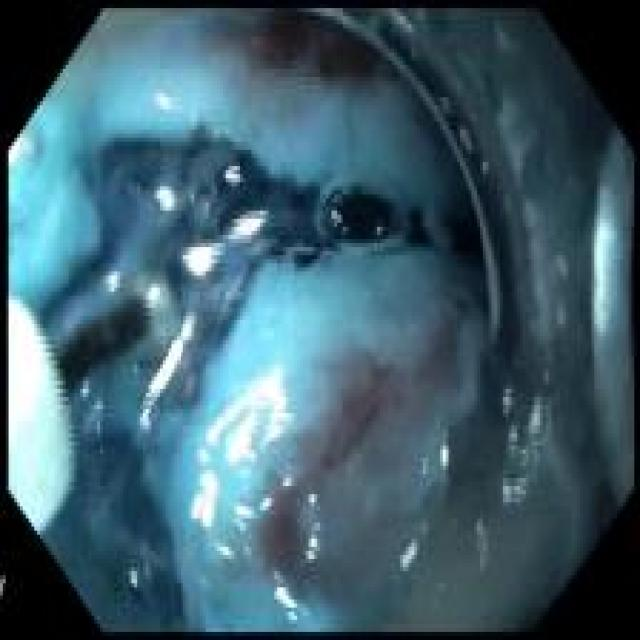instrument: (9, 266, 185, 534)
saturation: (9, 300, 47, 445)
specularity: (139, 314, 195, 432), (207, 371, 293, 447), (226, 414, 258, 463), (191, 475, 219, 528), (229, 215, 268, 243), (186, 247, 215, 278), (275, 589, 298, 609), (401, 544, 417, 569), (158, 190, 176, 210), (227, 169, 241, 186), (106, 274, 119, 291), (9, 142, 18, 166), (148, 288, 160, 306), (157, 96, 173, 109), (235, 508, 252, 520), (198, 453, 210, 466), (221, 547, 234, 559), (261, 499, 272, 511), (309, 536, 320, 548), (442, 448, 448, 468), (132, 575, 138, 589), (308, 554, 316, 562)
